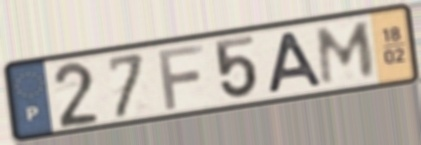2: (52, 58, 103, 131)
5: (210, 35, 261, 102)
7: (107, 50, 147, 120)
A: (265, 29, 325, 96)
F: (155, 41, 207, 112)
M: (315, 19, 377, 88)
